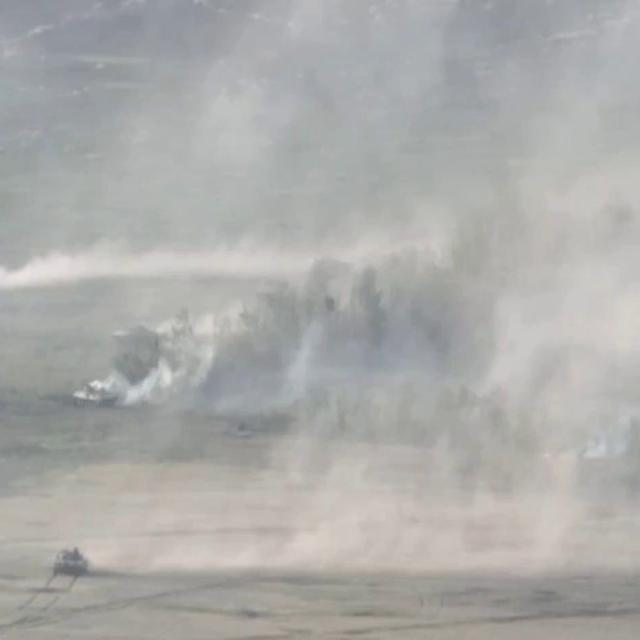AIFV: (72, 379, 119, 413), (114, 327, 135, 348)
MBT: (54, 548, 93, 577)
